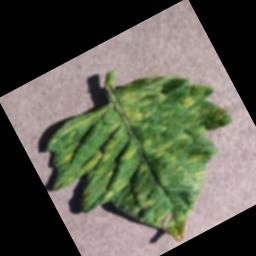Leaf_Mold: (22, 46, 256, 256)
